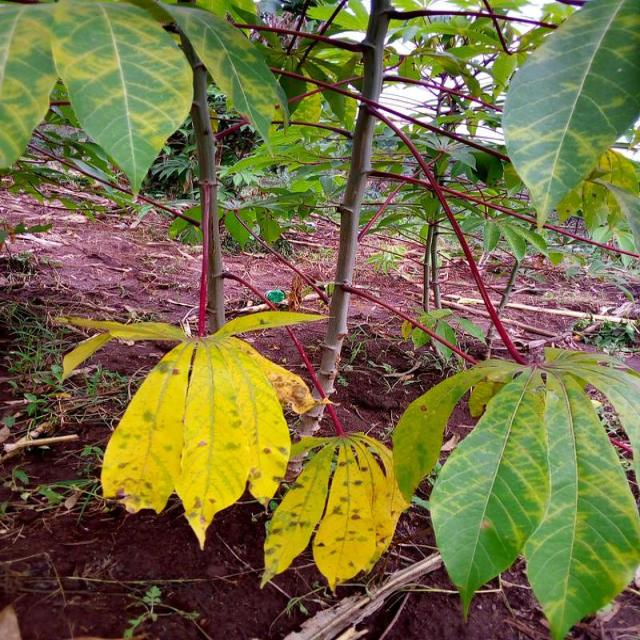cassava leaf: (99, 332, 302, 549), (500, 0, 639, 231), (522, 366, 638, 638), (428, 364, 550, 622), (48, 0, 193, 196), (157, 1, 290, 157), (0, 0, 58, 171)
